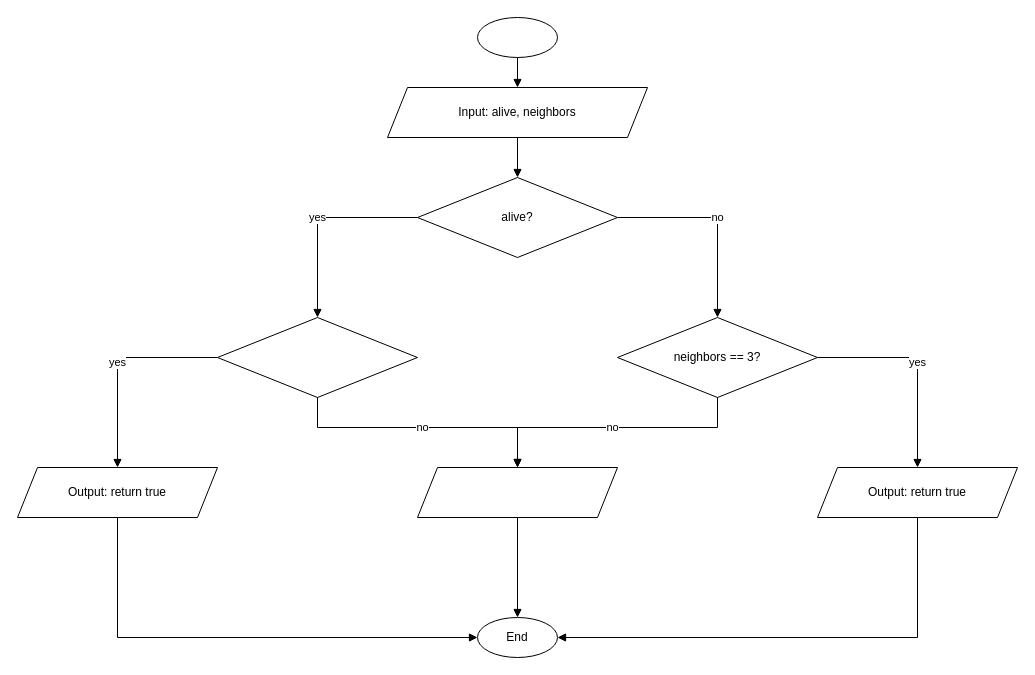
Some shapes in this 1035 by 675 pixel diagram are drawn without their labels. The shapes that lost their labels are listed below. From the top down, each one's centre as x and y in pixels, then its label:
At point 517,37: "Start".
At point 317,357: "neighbors is 2 or 3?".
At point 517,492: "Output: return false".
